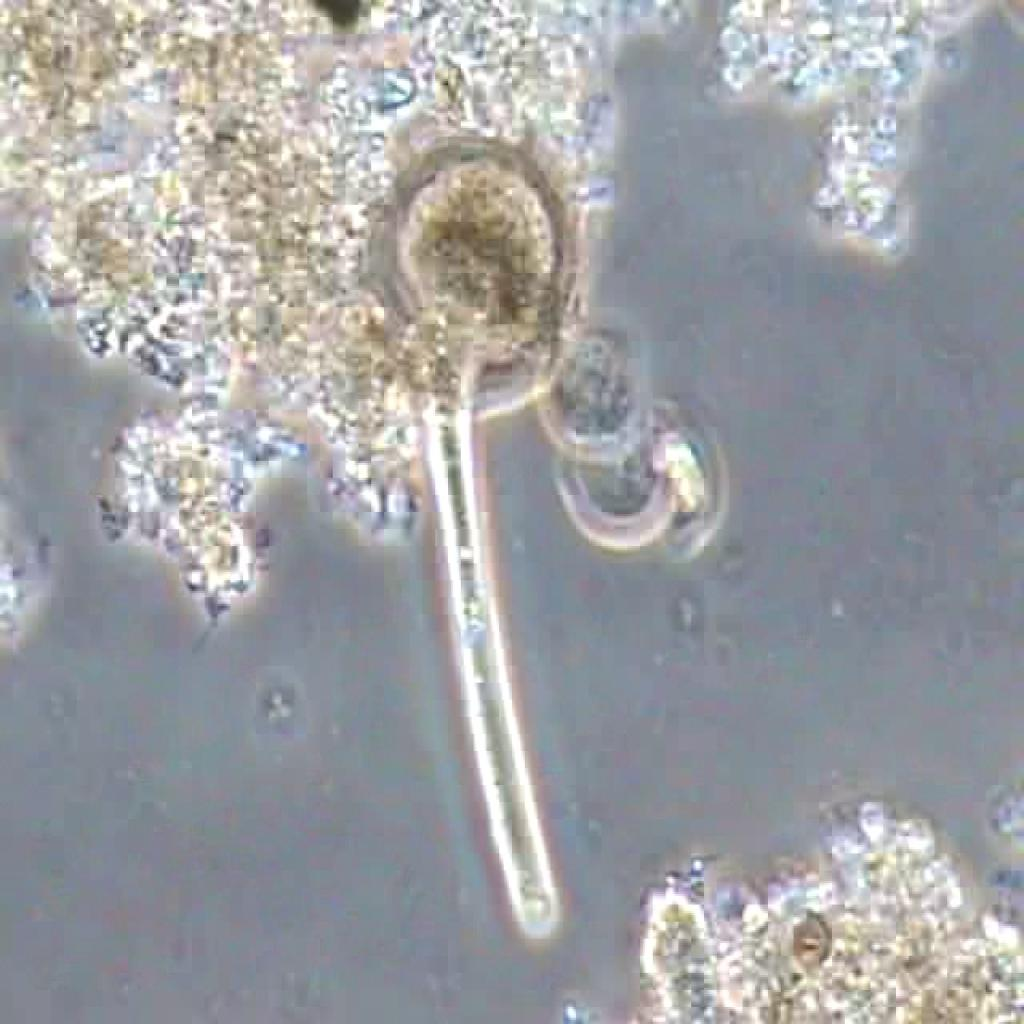Arcella: (361, 124, 602, 945)
